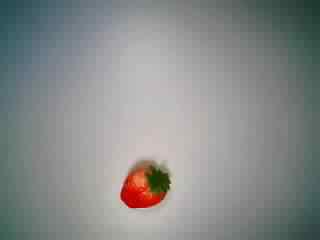strawberry: (110, 149, 178, 213)
